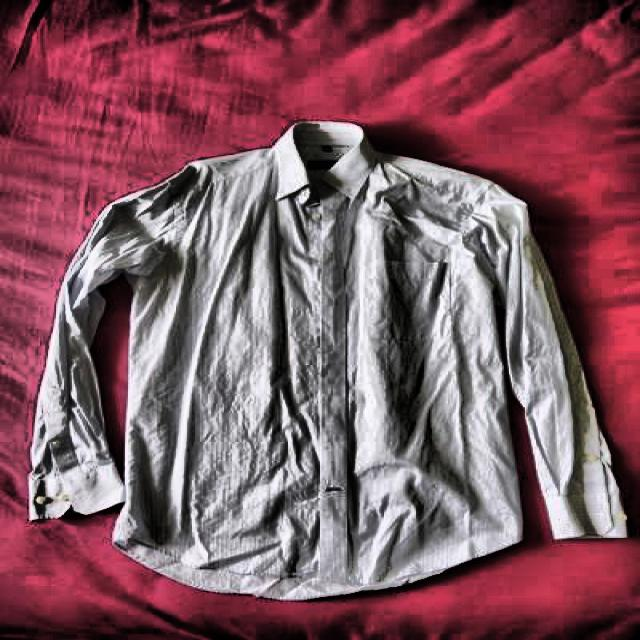clothes: (24, 115, 640, 603)
